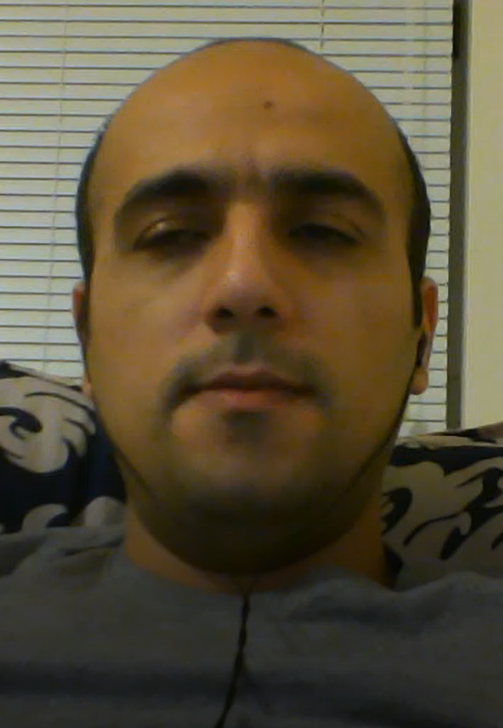Half Asleep: (116, 165, 375, 282)
